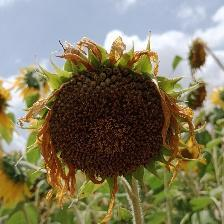sunflower: (22, 32, 212, 209), (171, 134, 203, 171), (18, 66, 56, 96), (1, 152, 22, 205), (186, 36, 208, 76), (183, 80, 207, 111), (1, 80, 14, 132), (212, 85, 224, 111)
